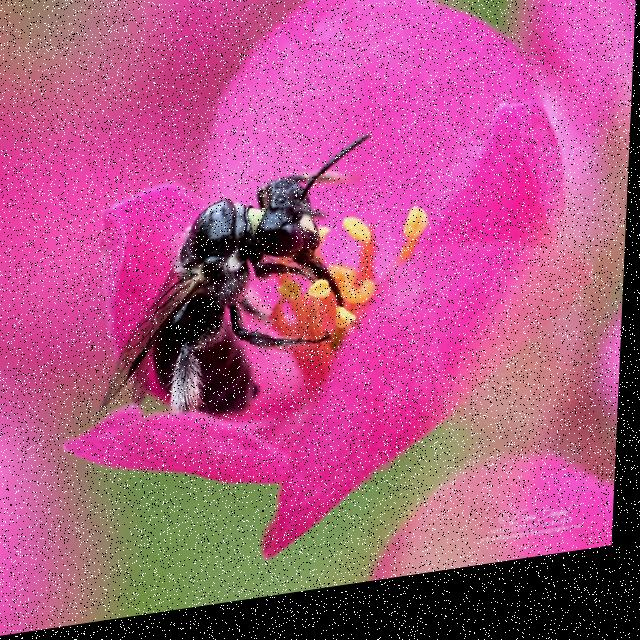Meliponula: (96, 125, 380, 487)
